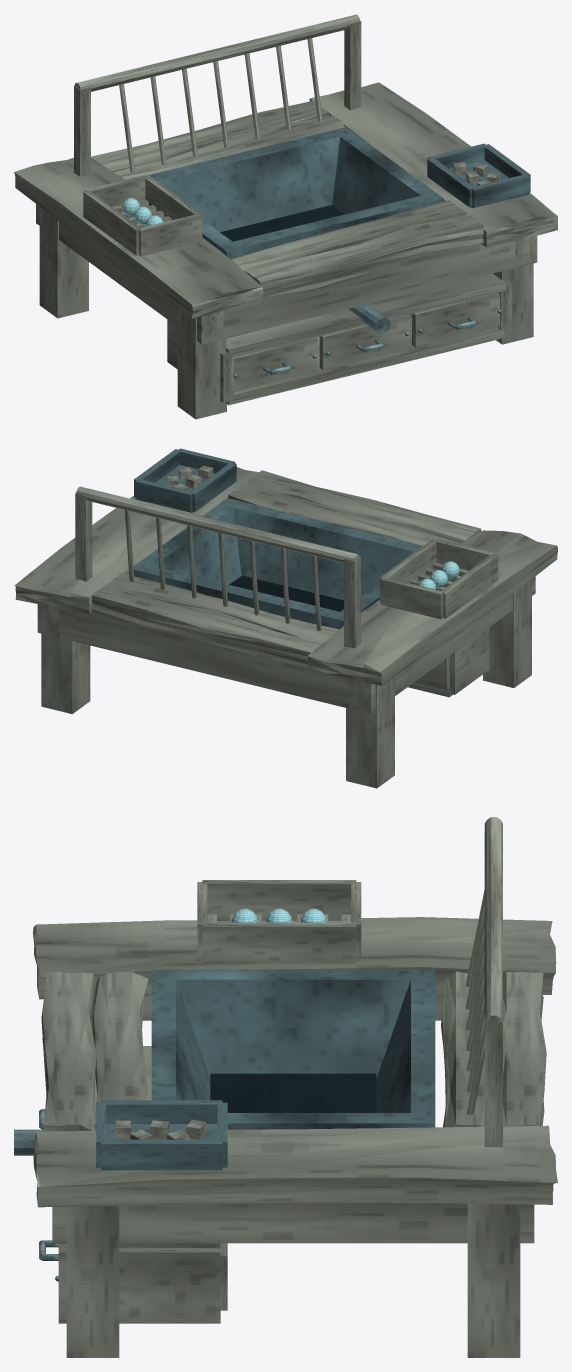
The model's file is underworld-station-tidal-basin.glb.
The picture shows the model from 3 angles, top to bottom: view 1: azimuth 30°, elevation 25°; view 2: azimuth 150°, elevation 25°; view 3: azimuth 270°, elevation 25°; orthographic projection. The views are drawn at different scales.
Visible parts, largest first — view 1: inset-flowstone-basin, worktop-slat-basin-side--1, worktop-slat-basin-side-1, basin-end-apron--1, worktop-slat-basin-end--1-1, salt-drawers-rail-1, worktop-slat-basin-end--1-0, basin-leg--1--1, basin-leg--1-1, worktop-slat-basin-end-1-1, salt-drawers-rail--1, fibre-drying-crossbar (+21 smaller); view 2: inset-flowstone-basin, worktop-slat-basin-side--1, basin-end-apron-1, worktop-slat-basin-side-1, worktop-slat-basin-end-1-1, basin-leg--1-1, worktop-slat-basin-end--1-1, fibre-drying-crossbar, basin-leg-1-1, basin-leg--1--1, worktop-slat-basin-end--1-0, worktop-slat-basin-end-1-0 (+15 smaller); view 3: inset-flowstone-basin, worktop-slat-basin-side-1, worktop-slat-basin-side--1, basin-side-apron-1, basin-leg-1-1, salt-drawers-side-1, basin-leg-1--1, worktop-slat-basin-end--1-1, pearl-basket-side-1, recessed-brine-surface, worktop-slat-basin-end--1-0, worktop-slat-basin-end-1-1 (+10 smaller).
Part boxes in pixels (box(x1,y1,x2,y2)): inset-flowstone-basin: box(146, 127, 443, 258); worktop-slat-basin-side--1: box(14, 157, 263, 318); worktop-slat-basin-side-1: box(309, 82, 557, 247); basin-end-apron--1: box(209, 237, 529, 338); worktop-slat-basin-end--1-1: box(244, 215, 483, 297); salt-drawers-rail-1: box(225, 273, 505, 357); worktop-slat-basin-end--1-0: box(230, 200, 466, 270); basin-leg--1--1: box(177, 309, 226, 419); basin-leg--1-1: box(39, 207, 88, 318); worktop-slat-basin-end-1-1: box(91, 101, 329, 171); salt-drawers-rail--1: box(225, 314, 505, 405); fibre-drying-crossbar: box(74, 14, 360, 91); inset-flowstone-basin: box(133, 498, 422, 629); worktop-slat-basin-side--1: box(307, 530, 557, 685); basin-end-apron-1: box(55, 607, 363, 711); worktop-slat-basin-side-1: box(14, 467, 259, 614); worktop-slat-basin-end-1-1: box(92, 583, 322, 668); basin-leg--1-1: box(346, 677, 394, 788); worktop-slat-basin-end--1-1: box(247, 470, 481, 543); fibre-drying-crossbar: box(76, 486, 359, 563); basin-leg-1-1: box(41, 633, 90, 714); basin-leg--1--1: box(483, 579, 531, 687); worktop-slat-basin-end--1-0: box(228, 482, 460, 545); worktop-slat-basin-end-1-0: box(110, 573, 339, 642); inset-flowstone-basin: box(151, 969, 435, 1129); worktop-slat-basin-side-1: box(33, 1125, 557, 1207); worktop-slat-basin-side--1: box(33, 917, 556, 999); basin-side-apron-1: box(52, 1202, 534, 1243); basin-leg-1-1: box(467, 1203, 520, 1357); salt-drawers-side-1: box(58, 1248, 220, 1321); basin-leg-1--1: box(66, 1205, 119, 1357); worktop-slat-basin-end--1-1: box(41, 971, 95, 1131); pearl-basket-side-1: box(202, 922, 356, 963); recessed-brine-surface: box(210, 1073, 376, 1112); worktop-slat-basin-end--1-0: box(92, 971, 148, 1130); worktop-slat-basin-end-1-1: box(503, 972, 546, 1126).
Size of the model in its own units: 3.04 by 1.75 by 2.69.
Materials: 5 (5 with a texture image).
